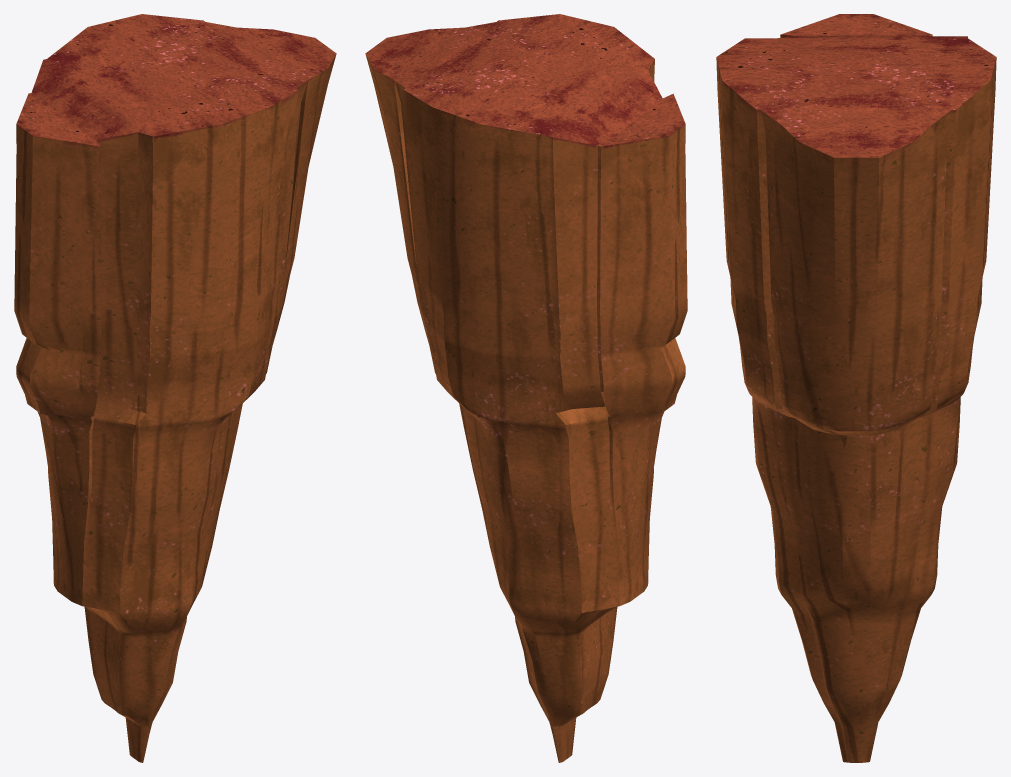
File: Rock_Final_V2.fbx
3 views of the same model, side by side, from view 1: azimuth 30°, elevation 25°; view 2: azimuth 150°, elevation 25°; view 3: azimuth 270°, elevation 25° (orthographic). The views are drawn at different scales.
Visible parts, largest first — view 1: pCube4; view 2: pCube4; view 3: pCube4.
Boxes of the visible parts, <box> form: pCube4: <box>14,14,336,762</box>; pCube4: <box>365,14,687,762</box>; pCube4: <box>716,14,996,762</box>.
Size of the model in its own units: 3.95 by 8.44 by 2.99.
1 material, 1 textured.
